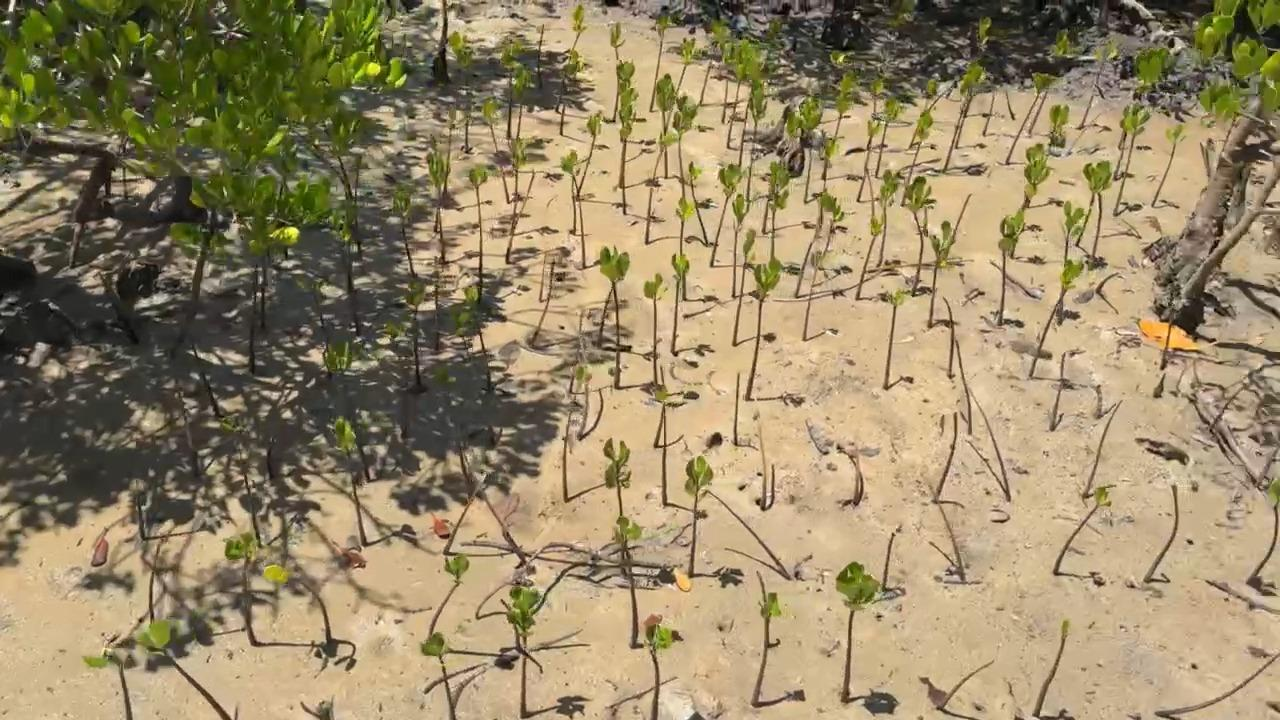Tree: (141, 621, 230, 720), (704, 492, 793, 580), (1156, 653, 1280, 716), (1029, 260, 1085, 377), (327, 337, 370, 478), (836, 562, 879, 702), (1029, 29, 1082, 135), (743, 257, 782, 399), (265, 564, 331, 646), (795, 190, 844, 297), (223, 414, 263, 544), (1054, 487, 1113, 575), (968, 389, 1012, 502), (506, 588, 542, 720), (821, 51, 857, 181), (333, 417, 369, 546), (1006, 73, 1056, 165), (944, 66, 985, 173), (599, 245, 629, 388), (612, 516, 644, 649), (224, 532, 261, 646), (561, 365, 591, 502), (1033, 617, 1072, 718), (787, 99, 824, 205), (1114, 106, 1151, 212), (477, 486, 524, 569), (1085, 399, 1124, 496), (906, 175, 938, 293), (1081, 37, 1121, 131), (710, 164, 746, 268), (428, 554, 470, 642), (459, 285, 494, 390), (444, 474, 489, 555), (645, 132, 677, 245), (739, 48, 769, 168), (684, 456, 714, 576), (1144, 484, 1181, 581), (1246, 481, 1280, 586), (1058, 201, 1087, 323), (750, 592, 780, 706), (603, 439, 632, 555), (998, 209, 1027, 325), (506, 135, 532, 264), (726, 42, 757, 149), (926, 221, 957, 328), (449, 32, 475, 156), (421, 631, 457, 720), (1075, 160, 1112, 246), (743, 79, 768, 206), (87, 651, 133, 720), (732, 229, 759, 345), (560, 149, 586, 269), (1152, 123, 1188, 209), (964, 18, 995, 116), (468, 167, 491, 298), (648, 7, 676, 112), (671, 98, 699, 202), (483, 95, 510, 202), (651, 385, 674, 509), (937, 660, 994, 710), (402, 275, 427, 385), (617, 88, 639, 213), (643, 273, 668, 382), (646, 624, 674, 720), (878, 170, 905, 268), (699, 21, 730, 106), (882, 289, 907, 391), (188, 336, 219, 418), (856, 215, 885, 301), (578, 110, 606, 199), (426, 157, 449, 261), (909, 75, 941, 149), (1114, 95, 1142, 179), (934, 413, 960, 502), (528, 263, 556, 345), (655, 74, 676, 179), (857, 117, 882, 203), (502, 46, 526, 135), (874, 98, 900, 179), (559, 51, 584, 135), (905, 113, 934, 185), (731, 194, 751, 298), (1136, 50, 1175, 103), (345, 247, 367, 338), (671, 252, 691, 352), (802, 251, 824, 341), (392, 189, 415, 275), (432, 136, 452, 233), (686, 161, 708, 244), (947, 192, 974, 257), (1091, 171, 1110, 262), (954, 339, 972, 434), (248, 255, 262, 377), (720, 40, 740, 123), (443, 105, 462, 192), (610, 20, 626, 120), (517, 55, 536, 138), (1045, 103, 1070, 166), (555, 52, 581, 111), (1028, 144, 1053, 204), (930, 540, 965, 582), (981, 75, 1004, 136), (881, 526, 901, 592), (755, 425, 770, 512), (148, 546, 164, 627), (1051, 351, 1067, 432), (1018, 167, 1043, 218), (677, 196, 697, 259), (676, 38, 698, 92), (1159, 307, 1177, 373), (599, 281, 619, 339), (569, 4, 588, 63), (1117, 104, 1140, 148), (942, 297, 954, 376), (731, 373, 741, 447), (133, 487, 146, 542), (850, 445, 861, 507), (615, 61, 636, 90), (1003, 82, 1016, 121), (537, 25, 545, 87), (871, 78, 884, 115)
